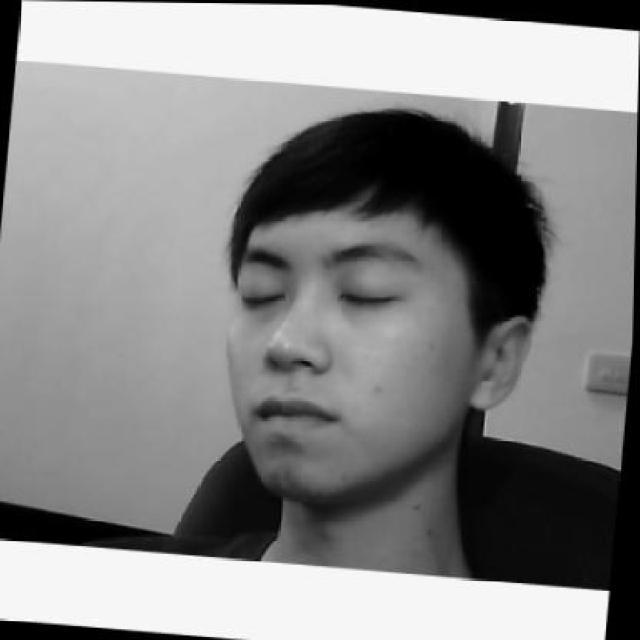inattentif: (212, 92, 552, 514)
